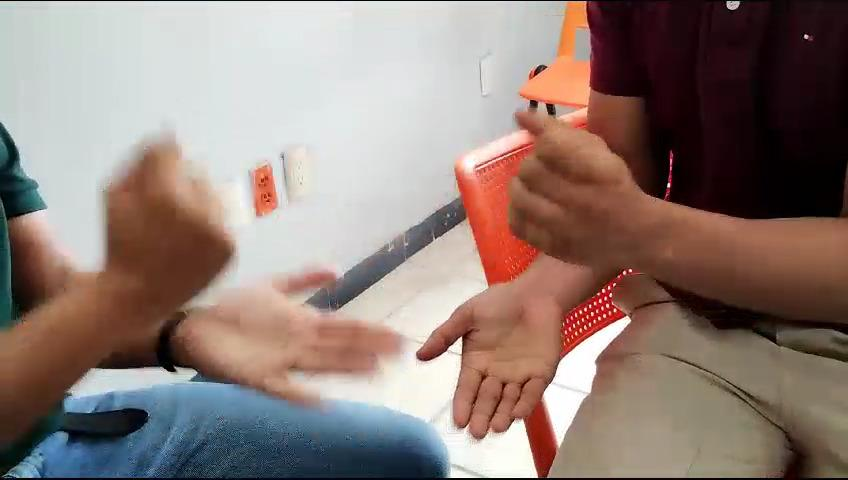Stone: (70, 135, 309, 350), (455, 68, 661, 278)
